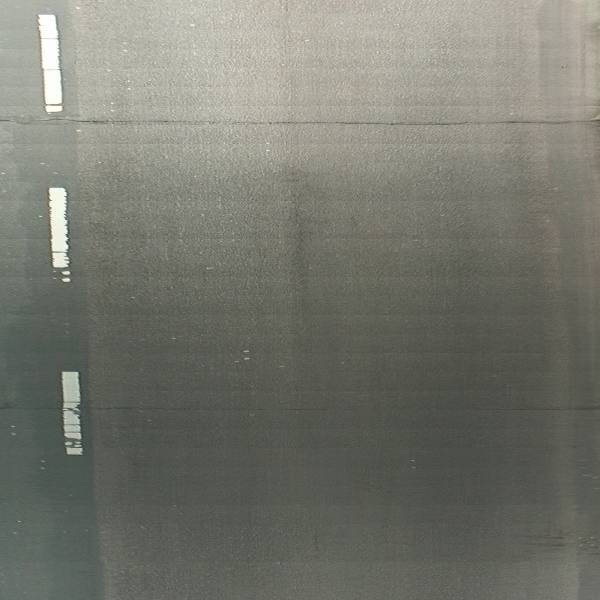road_damage: (61, 115, 600, 129), (84, 403, 337, 415)
